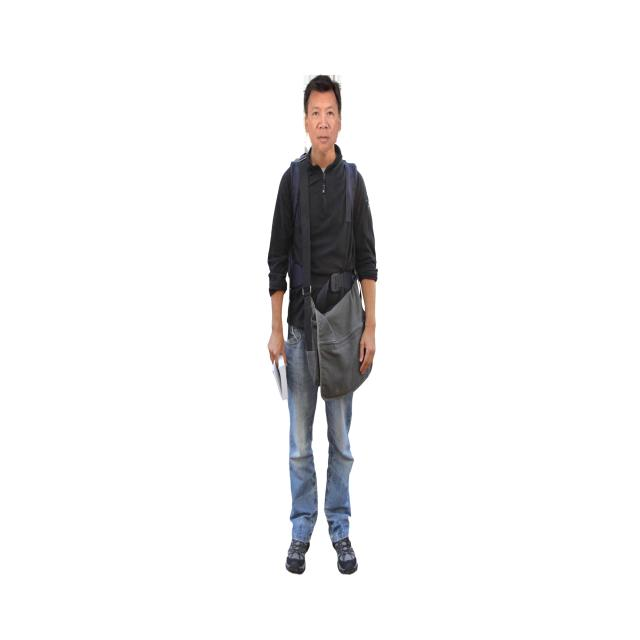jovem: (259, 74, 390, 600)
